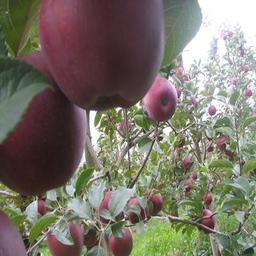apple: (36, 1, 165, 108), (1, 53, 85, 197), (140, 76, 178, 123)
